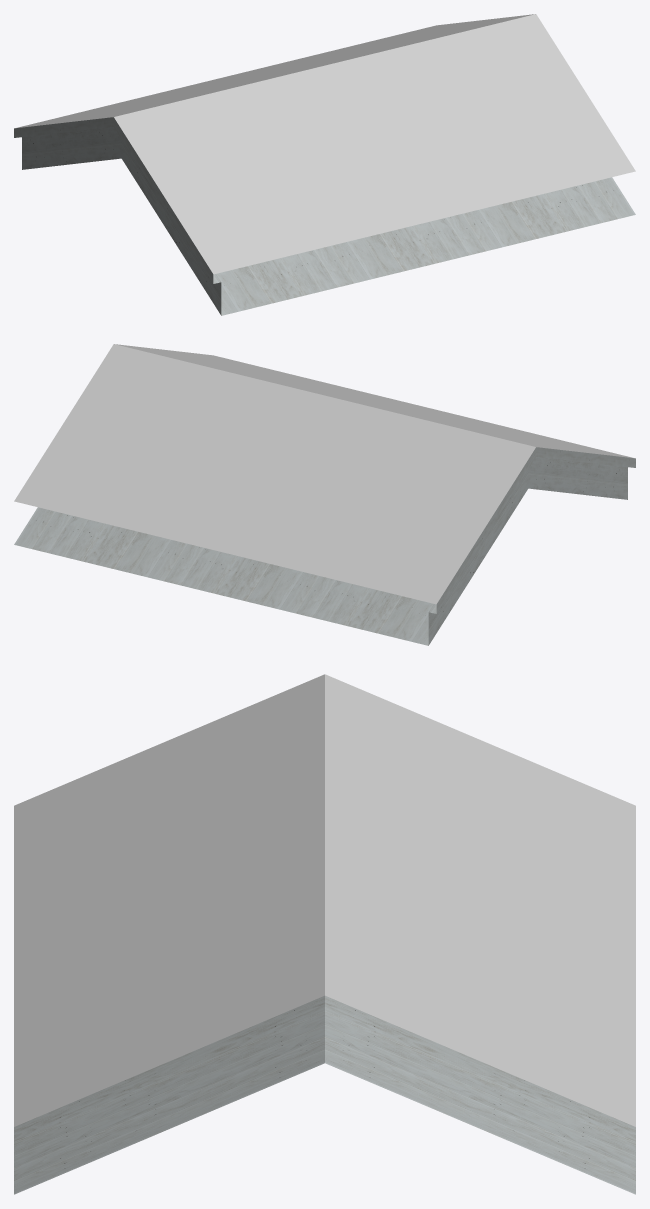
Rendered from SM_Roof_02_Top_Edge_01.fbx.
3 renders of one model, top to bottom at view 1: azimuth 30°, elevation 25°; view 2: azimuth 150°, elevation 25°; view 3: azimuth 270°, elevation 25°, orthographic. The views are drawn at different scales.
Visible parts, largest first — view 1: SM_Roof_02_Top_Edge_01_LOD0; view 2: SM_Roof_02_Top_Edge_01_LOD0; view 3: SM_Roof_02_Top_Edge_01_LOD0.
Part boxes in pixels (x1=…): SM_Roof_02_Top_Edge_01_LOD0: x1=14, y1=14, x2=635, y2=315; SM_Roof_02_Top_Edge_01_LOD0: x1=14, y1=344, x2=635, y2=645; SM_Roof_02_Top_Edge_01_LOD0: x1=14, y1=674, x2=635, y2=1194.
Bounding box in the file's own units: 183 × 150 × 53.
